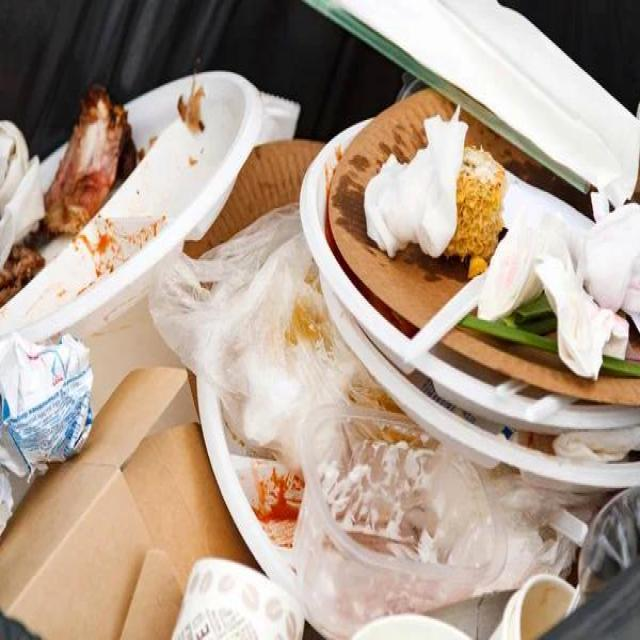Disposable: (300, 125, 640, 434), (0, 73, 262, 341), (321, 278, 640, 490), (198, 377, 298, 595)
Garbage: (1, 69, 640, 640)
contaminated_waste: (0, 73, 262, 341), (295, 407, 508, 638), (329, 88, 468, 327), (442, 328, 640, 406), (461, 113, 560, 194)
